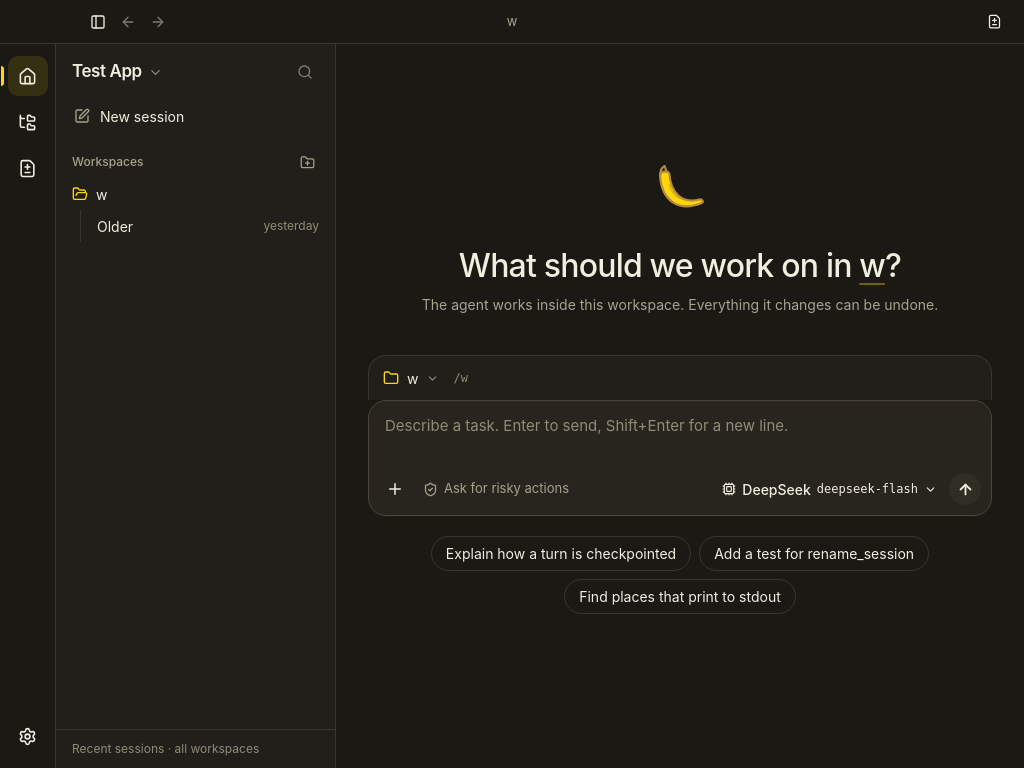
it: the approval dialog › several approvals queue oldest first with the count, and each answer goes to the sidecar
This screenshot has width=1024, height=768.
Expected: the text "Older" is shown, [97, 218, 133, 234]
Type "go" into the text box labelled "task" at {"x": 680, "y": 435}, box [369, 401, 991, 469]
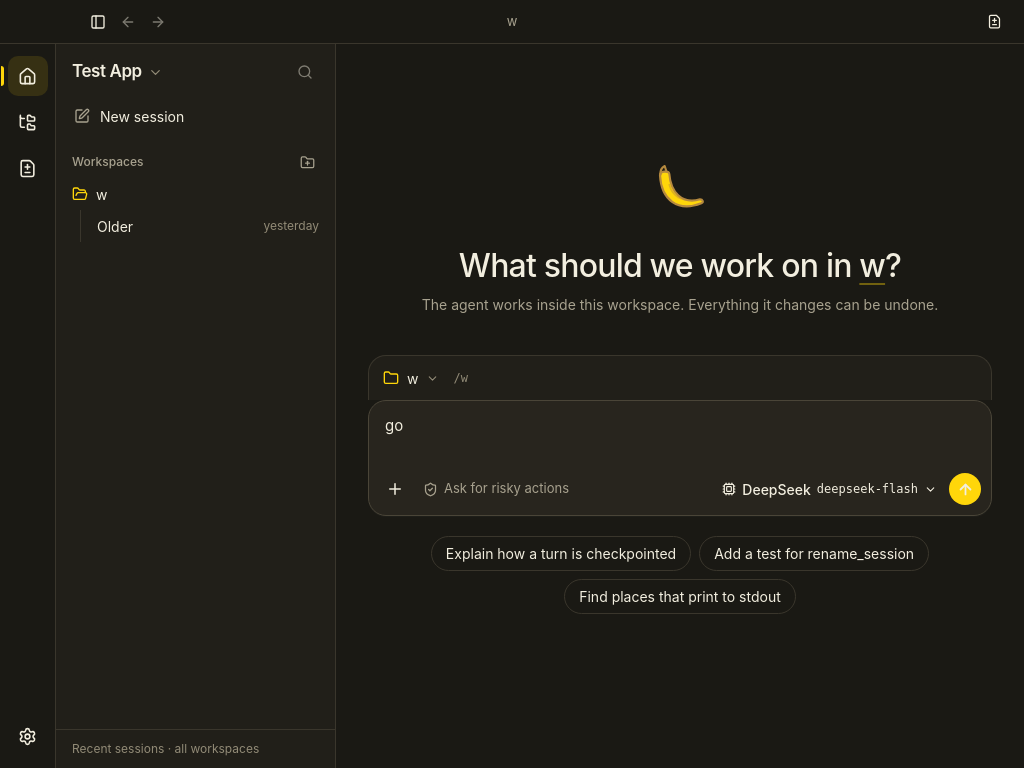
Click the button named "Send" at {"x": 965, "y": 489}, box [949, 473, 981, 505]
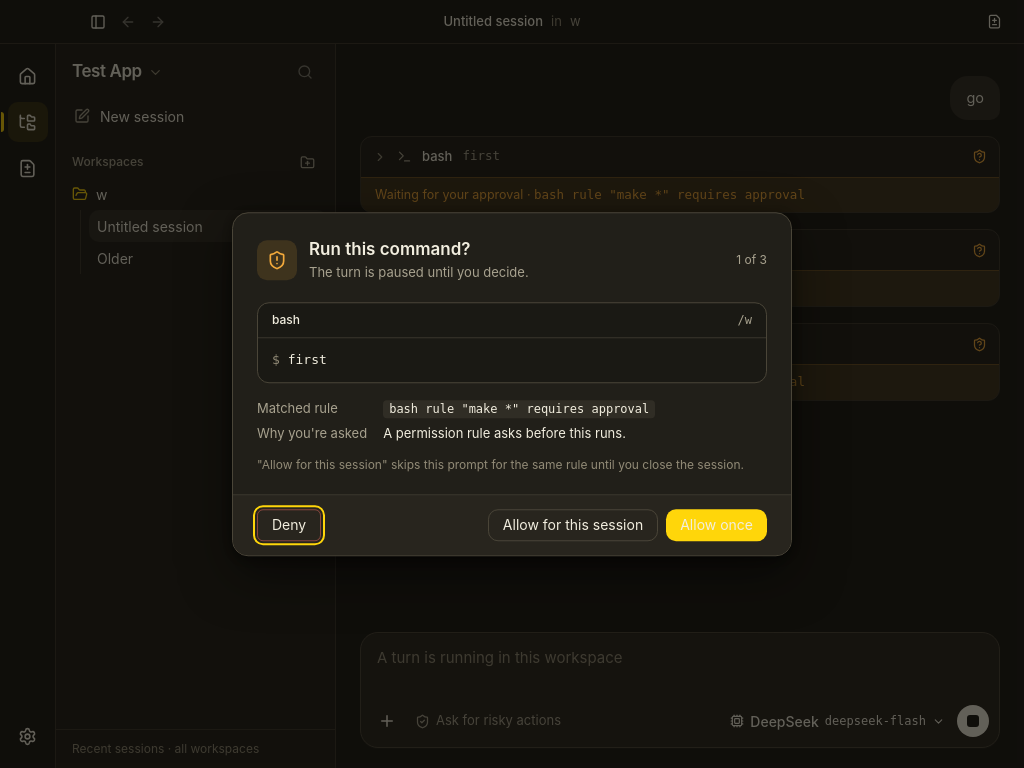
Expected: the text "1 of 3" is shown, [736, 251, 767, 269]
Expected: the text "first" is shown, [288, 352, 327, 367]
Click the button "Allow once" at {"x": 717, "y": 525}, box [666, 509, 767, 541]
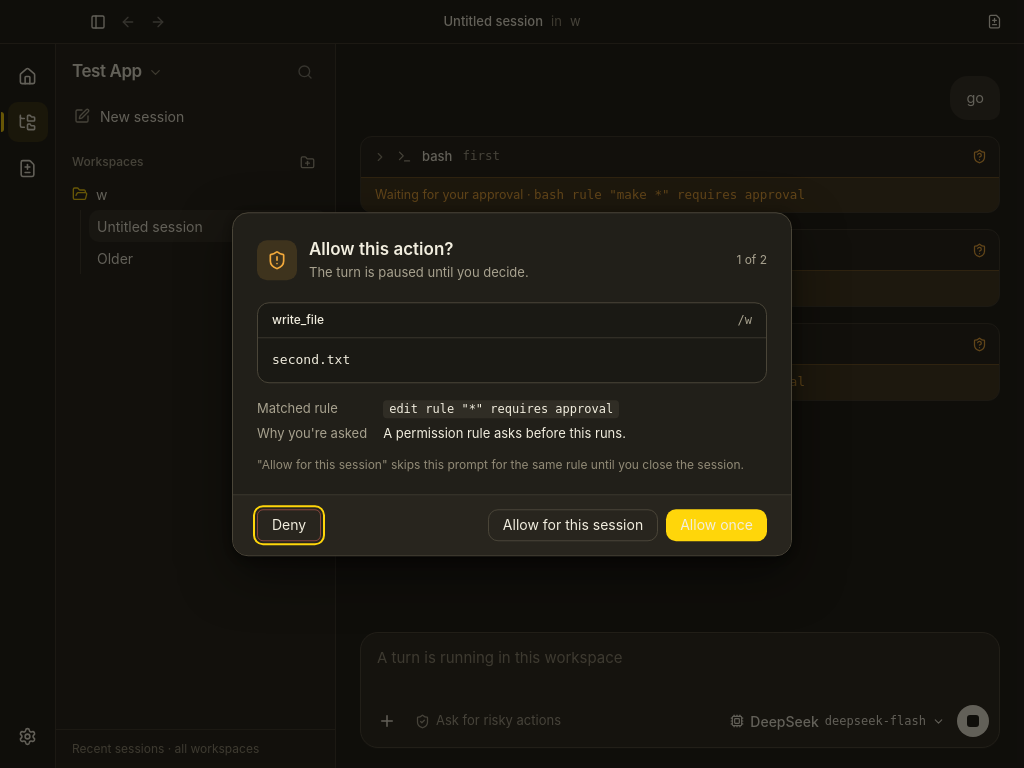
Expected: the text "1 of 2" is shown, [736, 251, 767, 269]
Expected: the text "second.txt" is shown, [272, 352, 350, 367]
Expected: the heading "Allow this action?" is shown, [309, 239, 454, 259]
Click the button "Allow for this session" at {"x": 573, "y": 525}, box [488, 509, 658, 541]
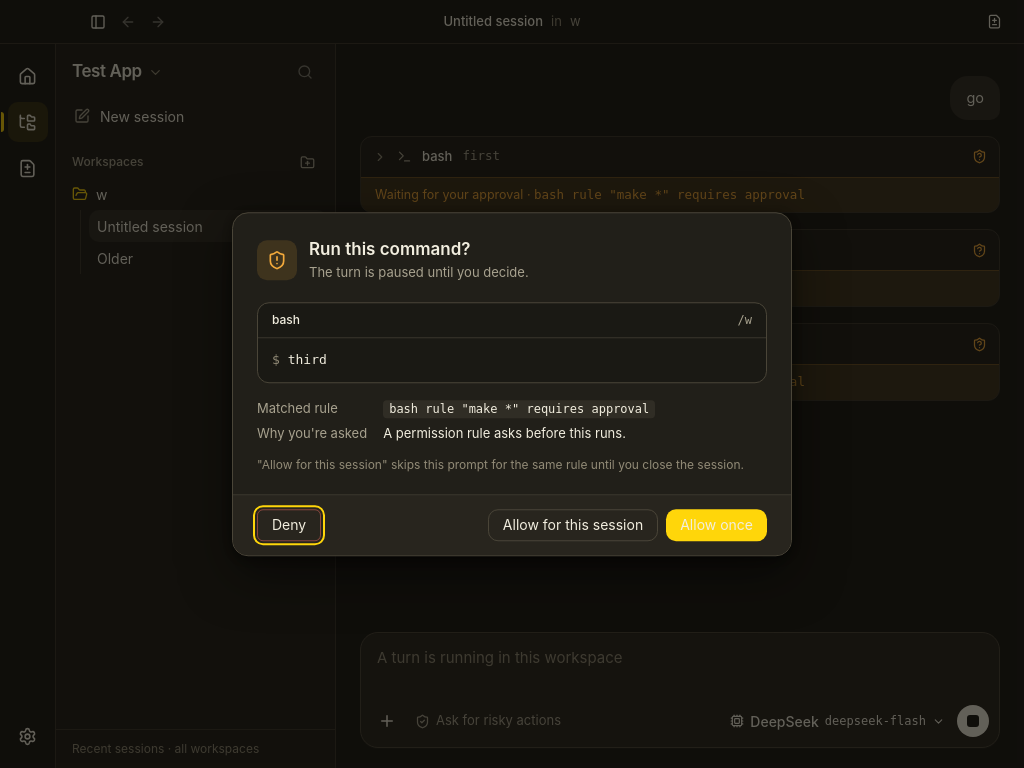
Click the button "Deny" at {"x": 289, "y": 525}, box [257, 509, 321, 541]
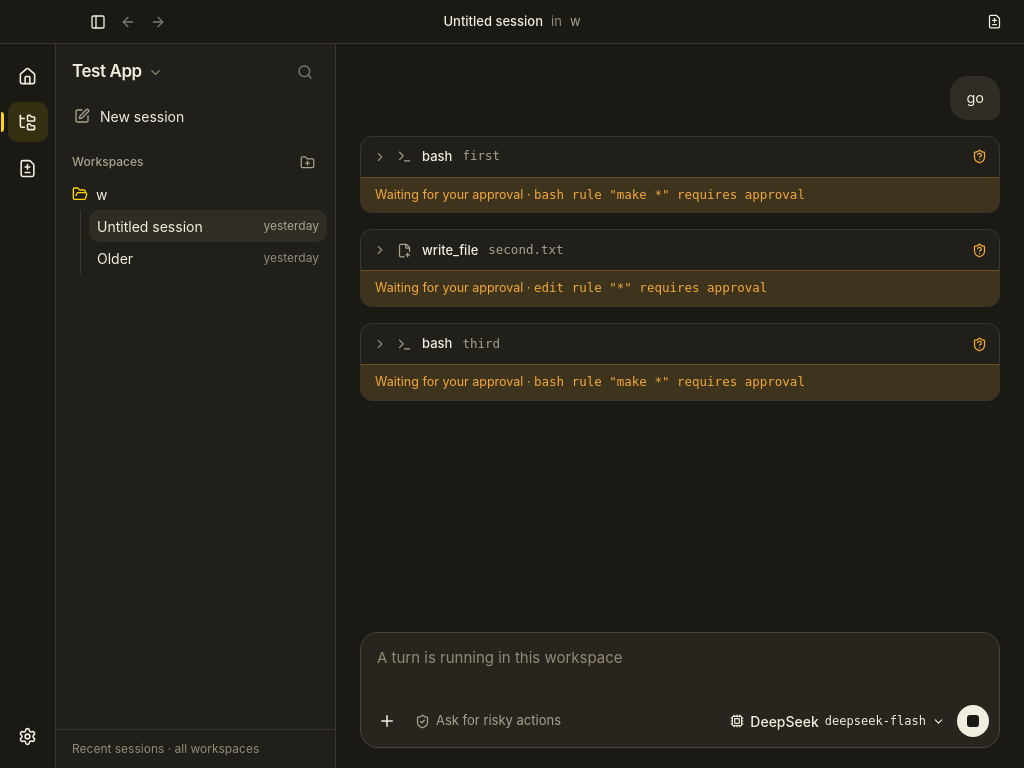
Expected: the dialog is gone
